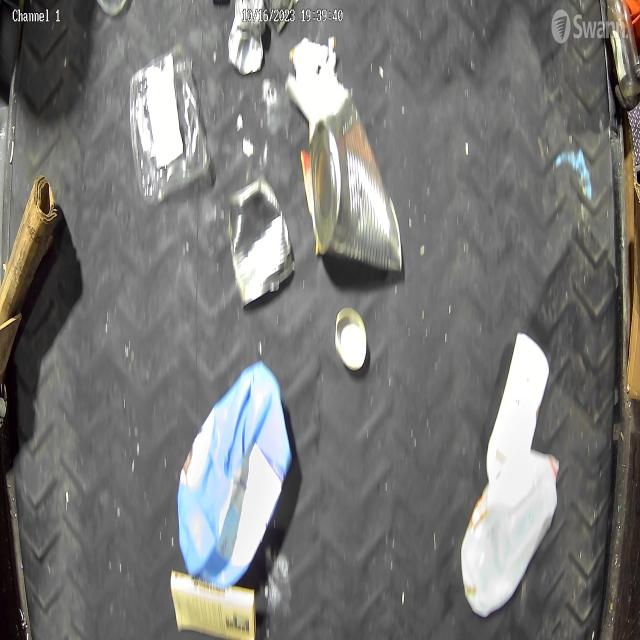can: (310, 96, 404, 274), (227, 174, 296, 308), (334, 305, 367, 372)
milk_jug: (460, 448, 560, 619)
non_white_jug: (176, 358, 294, 588)
